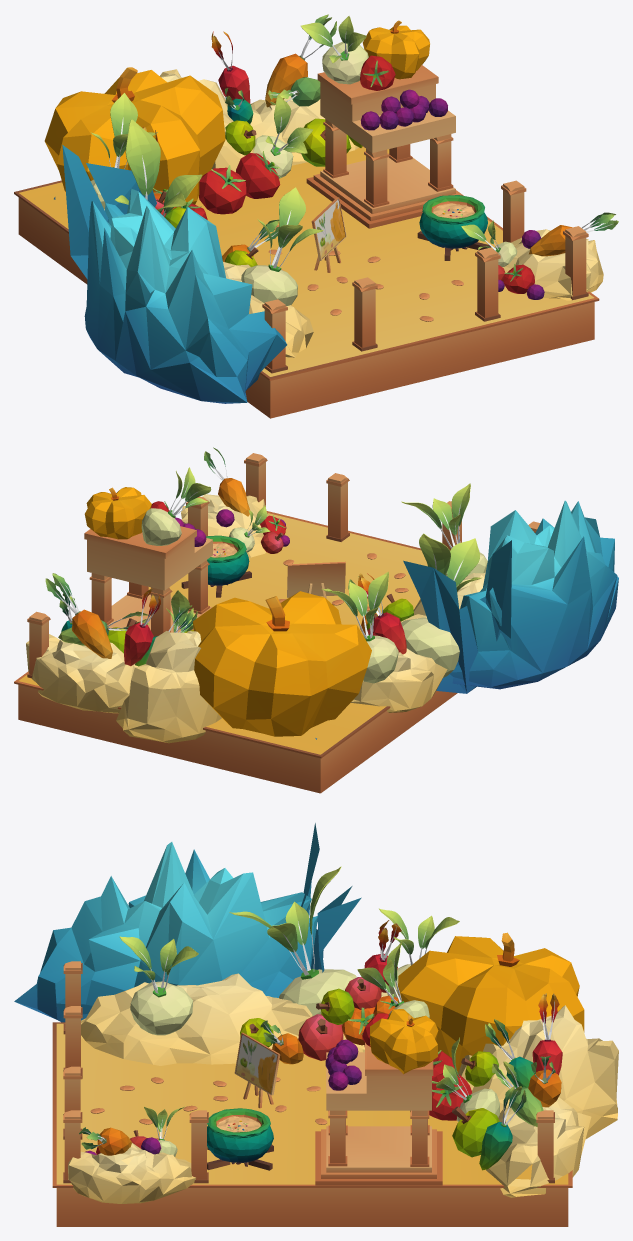
The model's file is foodword.gltf.
3 renders of one model, top to bottom at view 1: azimuth 30°, elevation 25°; view 2: azimuth 150°, elevation 25°; view 3: azimuth 270°, elevation 25°, orthographic. The views are drawn at different scales.
Parts seen in each view (by area): view 1: 场景, 画板; view 2: 场景, 画架; view 3: 场景, 画板, 画架.
Part boxes in pixels (x1,y1,x2,y2): 场景: (14, 14, 618, 418); 画板: (314, 199, 345, 258); 场景: (14, 447, 618, 793); 画架: (287, 561, 345, 598); 场景: (14, 823, 618, 1226); 画板: (236, 1035, 277, 1093); 画架: (234, 1032, 280, 1108).
Size of the model in its own units: 17.41 by 7.92 by 19.11.
Materials: 3 (3 with a texture image).
